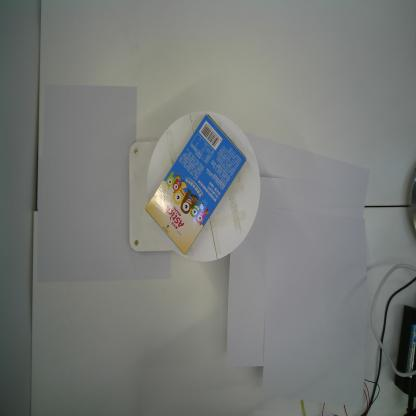Dessert: (144, 112, 248, 256)
